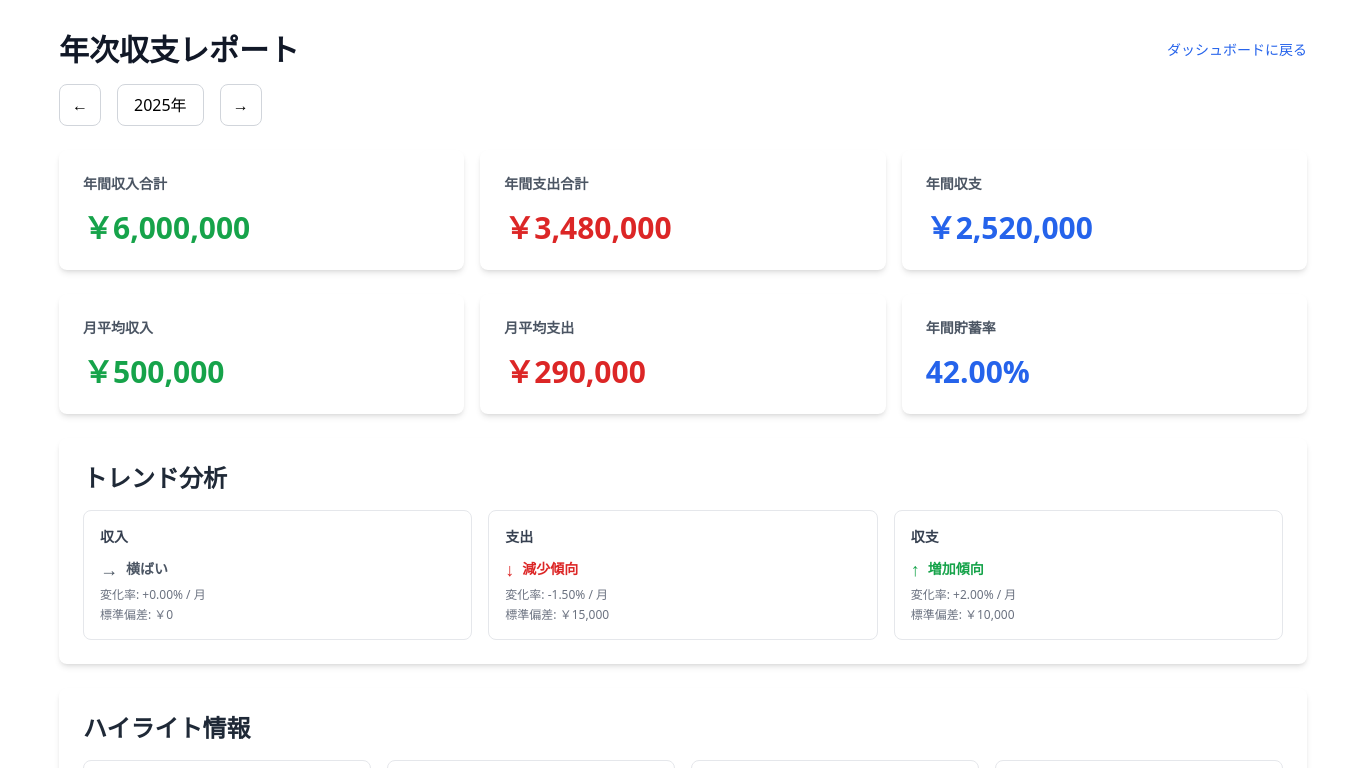
Test: YearlyBalanceReportPage › モーダルをキャンセルできる
expect the heading "年次収支レポート" is shown: met, box 59,32 -> 299,68
// 年選択ボタンをクリック
Click the button "2025年" at point(160, 105), box 117,84 -> 204,126
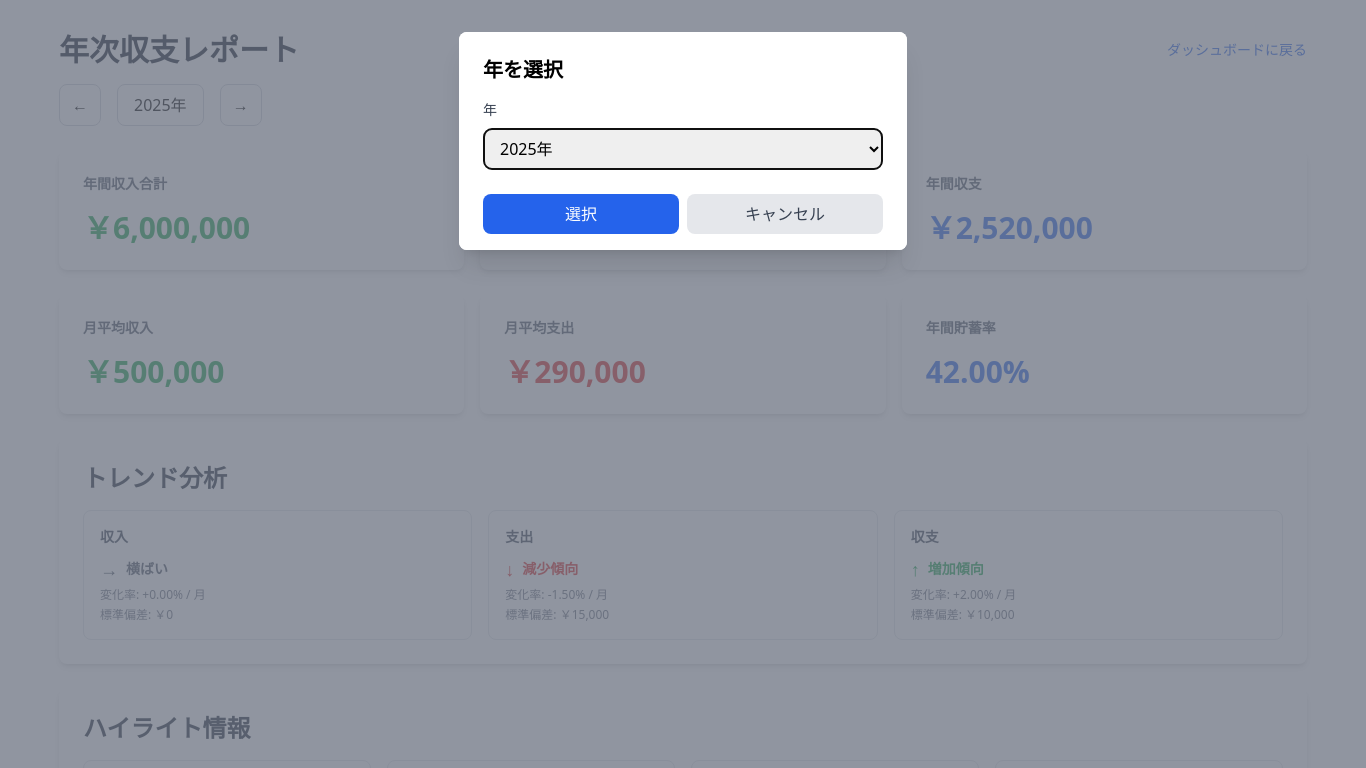
expect the heading "年を選択" is shown: met, box 483,56 -> 563,83
// キャンセルボタンをクリック
Click the button "キャンセル" at point(785, 214), box 687,194 -> 883,234
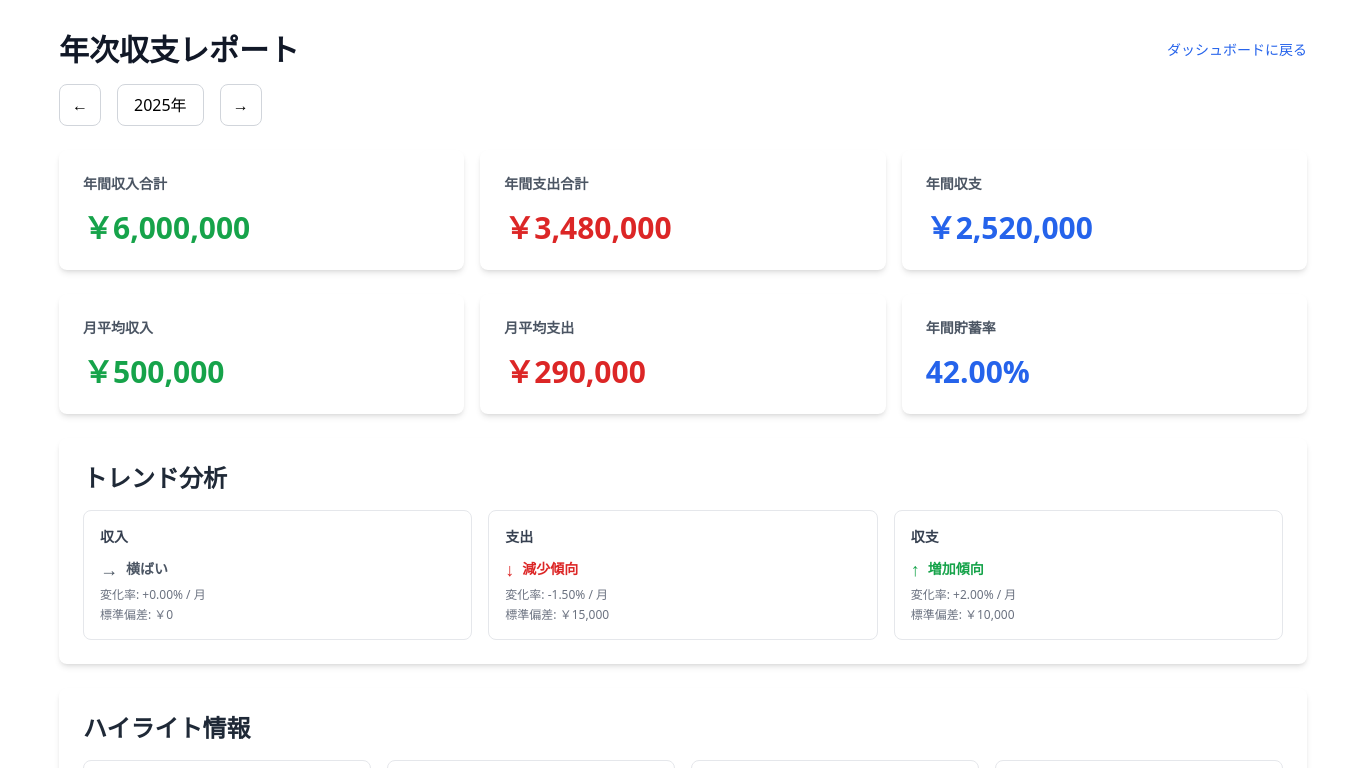
expect the heading "年を選択" is gone: met
